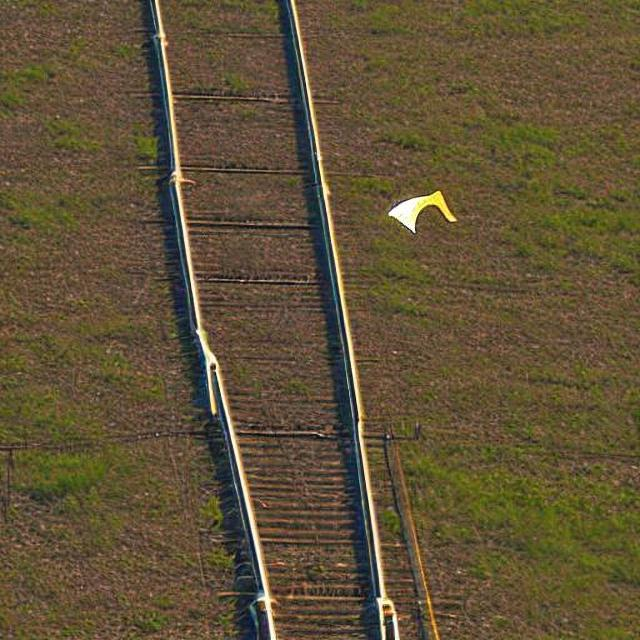floating object: (388, 187, 458, 235)
